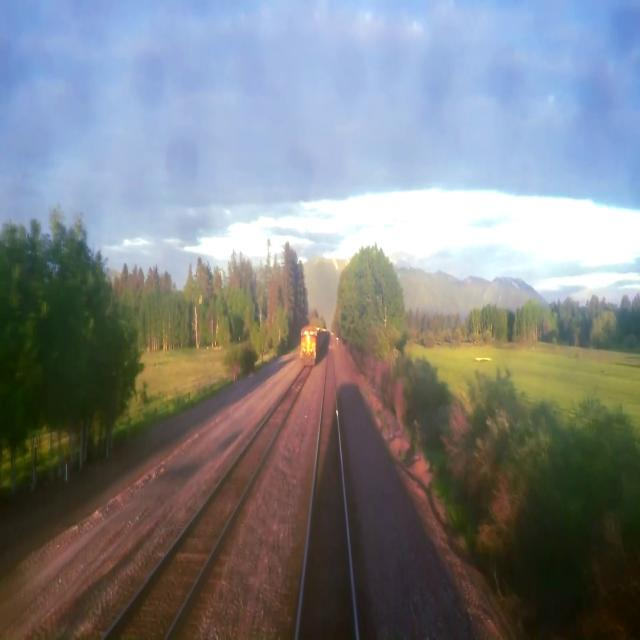rail-track: (107, 366, 309, 639), (299, 349, 354, 639)
